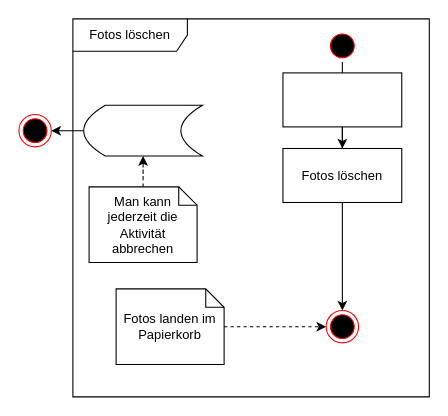
The diagram is 448 pixels wide and 416 high, and some of its shapes have lost their labels. The box of each missing label's shape, as (x1, y1, x2, y2) in pixels:
Abbrechen: (83, 104, 202, 156)
UC: Fotos auswählen: (282, 72, 402, 127)
